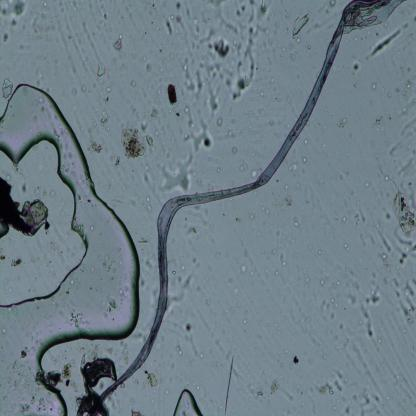Air bubble: (0, 77, 143, 412), (173, 386, 203, 416)
Background material: (178, 50, 234, 112), (0, 172, 49, 238), (228, 0, 271, 73), (77, 355, 117, 415), (158, 155, 200, 192), (386, 270, 416, 320), (8, 383, 51, 416), (391, 179, 416, 235), (168, 13, 205, 50), (356, 292, 383, 340), (365, 29, 401, 61), (37, 360, 72, 392), (168, 271, 194, 306), (343, 388, 375, 416), (122, 124, 147, 158), (389, 69, 416, 100), (30, 10, 57, 40), (392, 146, 416, 179), (0, 0, 26, 26), (219, 347, 240, 378), (206, 35, 232, 58), (394, 241, 416, 268), (312, 378, 342, 396), (290, 14, 311, 38), (233, 70, 252, 96), (375, 225, 388, 262), (183, 335, 203, 359), (70, 308, 89, 332), (366, 267, 381, 294), (103, 287, 118, 313), (61, 17, 75, 44), (0, 73, 13, 100), (370, 111, 389, 129), (276, 182, 290, 206), (110, 34, 126, 53), (140, 158, 151, 185), (82, 345, 103, 359), (143, 370, 160, 387), (266, 374, 280, 394), (284, 161, 300, 178), (167, 82, 178, 106), (120, 338, 130, 364), (88, 142, 108, 155), (170, 342, 187, 357), (341, 264, 353, 285), (198, 135, 214, 150), (386, 144, 402, 159), (335, 367, 348, 385), (20, 344, 33, 362), (96, 56, 106, 79), (282, 386, 296, 402), (353, 209, 365, 227), (144, 2, 160, 15), (198, 122, 211, 138), (0, 29, 11, 46), (8, 257, 23, 269), (350, 342, 362, 357), (98, 111, 110, 126), (252, 386, 264, 400), (352, 60, 362, 76), (381, 202, 390, 219), (336, 116, 346, 131), (348, 291, 358, 305), (127, 78, 139, 89), (87, 124, 98, 136), (190, 255, 200, 268), (183, 132, 197, 141), (146, 134, 155, 148), (145, 193, 152, 211), (131, 407, 145, 416), (150, 109, 161, 120), (321, 298, 332, 309), (331, 277, 342, 288), (98, 92, 110, 102), (232, 283, 242, 295), (278, 253, 286, 267), (292, 355, 302, 366), (70, 86, 80, 97), (216, 114, 226, 125), (76, 82, 88, 91), (185, 321, 194, 333), (262, 206, 272, 216), (331, 212, 340, 223), (383, 170, 390, 184), (369, 80, 377, 92), (338, 320, 346, 332), (323, 0, 336, 7), (203, 296, 212, 306), (188, 226, 197, 235), (299, 156, 308, 165), (186, 116, 192, 129), (101, 85, 112, 92), (251, 170, 259, 179), (349, 188, 357, 197), (214, 251, 222, 260), (288, 53, 296, 62), (114, 157, 121, 167), (234, 214, 241, 224), (330, 296, 338, 304), (100, 12, 108, 20), (154, 342, 162, 350), (228, 130, 235, 139), (1, 252, 7, 262), (233, 146, 239, 156), (184, 106, 191, 114), (292, 220, 300, 227), (318, 278, 326, 285), (154, 126, 159, 136), (305, 274, 310, 284), (344, 244, 352, 250), (341, 215, 347, 223), (338, 172, 344, 180), (140, 278, 146, 286), (304, 138, 310, 146), (364, 180, 369, 189), (176, 1, 181, 10), (274, 269, 280, 276), (249, 212, 255, 219), (146, 62, 152, 69), (239, 268, 247, 273), (303, 198, 309, 204), (248, 270, 254, 276), (306, 44, 312, 50), (239, 165, 245, 171), (356, 200, 361, 207), (334, 302, 338, 310), (297, 37, 302, 43), (216, 166, 220, 173), (308, 244, 312, 250), (164, 390, 168, 396), (176, 112, 180, 117), (318, 250, 322, 255), (346, 172, 349, 175), (317, 182, 320, 184)
Cotton: (86, 0, 406, 414)
